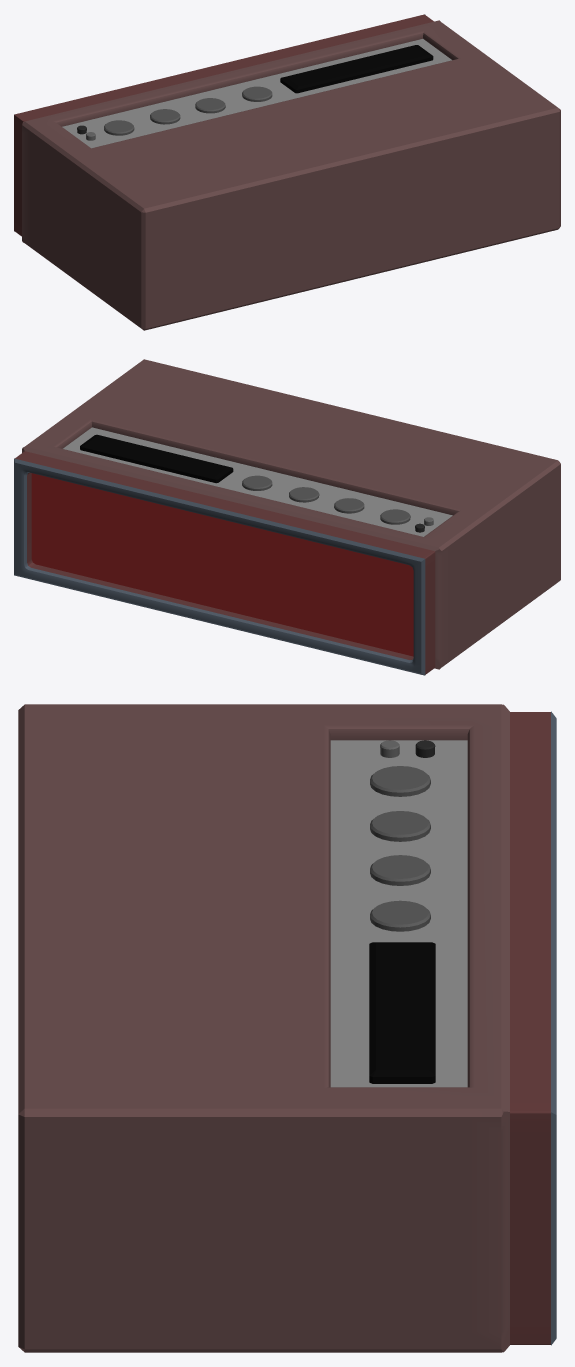
The model's file is AlarmClockFBX.fbx.
3 views of the same model, one above another, from view 1: azimuth 30°, elevation 25°; view 2: azimuth 150°, elevation 25°; view 3: azimuth 270°, elevation 25° (orthographic). The views are drawn at different scales.
Parts seen in each view (by area): view 1: PGT_Ass_ALC_V04:polySurface5, PGT_Ass_ALC_V04:polySurface6, PGT_Ass_ALC_V04:polySurface4, PGT_Ass_ALC_V04:Button_6, PGT_Ass_ALC_V04:Button6, PGT_Ass_ALC_V04:Button7, PGT_Ass_ALC_V04:Button, PGT_Ass_ALC_V04:Button8; view 2: PGT_Ass_ALC_V04:polySurface5, PGT_Ass_ALC_V04:FAce, PGT_Ass_ALC_V04:Metalbrim, PGT_Ass_ALC_V04:polySurface4, PGT_Ass_ALC_V04:polySurface6, PGT_Ass_ALC_V04:Button_6, PGT_Ass_ALC_V04:Button7, PGT_Ass_ALC_V04:Button8, PGT_Ass_ALC_V04:Button6, PGT_Ass_ALC_V04:Button; view 3: PGT_Ass_ALC_V04:polySurface5, PGT_Ass_ALC_V04:polySurface6, PGT_Ass_ALC_V04:polySurface4, PGT_Ass_ALC_V04:Button_6, PGT_Ass_ALC_V04:Metalbrim, PGT_Ass_ALC_V04:Button7, PGT_Ass_ALC_V04:Button, PGT_Ass_ALC_V04:Button6, PGT_Ass_ALC_V04:Button8.
Part boxes in pixels (box(x1,y1,x2,y2)): PGT_Ass_ALC_V04:polySurface5: box(22, 20, 560, 330); PGT_Ass_ALC_V04:polySurface6: box(62, 39, 451, 148); PGT_Ass_ALC_V04:polySurface4: box(14, 14, 433, 236); PGT_Ass_ALC_V04:Button_6: box(280, 45, 433, 93); PGT_Ass_ALC_V04:Button6: box(195, 98, 225, 113); PGT_Ass_ALC_V04:Button7: box(150, 109, 180, 124); PGT_Ass_ALC_V04:Button: box(242, 86, 272, 101); PGT_Ass_ALC_V04:Button8: box(104, 120, 134, 135); PGT_Ass_ALC_V04:polySurface5: box(22, 359, 560, 669); PGT_Ass_ALC_V04:FAce: box(31, 473, 413, 656); PGT_Ass_ALC_V04:Metalbrim: box(14, 458, 425, 675); PGT_Ass_ALC_V04:polySurface4: box(15, 451, 435, 674); PGT_Ass_ALC_V04:polySurface6: box(63, 427, 452, 536); PGT_Ass_ALC_V04:Button_6: box(80, 434, 233, 483); PGT_Ass_ALC_V04:Button7: box(334, 498, 364, 513); PGT_Ass_ALC_V04:Button8: box(380, 509, 410, 524); PGT_Ass_ALC_V04:Button6: box(289, 487, 319, 502); PGT_Ass_ALC_V04:Button: box(242, 475, 272, 490); PGT_Ass_ALC_V04:polySurface5: box(18, 704, 509, 1352); PGT_Ass_ALC_V04:polySurface6: box(330, 740, 467, 1087); PGT_Ass_ALC_V04:polySurface4: box(510, 712, 550, 1344); PGT_Ass_ALC_V04:Button_6: box(369, 942, 435, 1083); PGT_Ass_ALC_V04:Metalbrim: box(551, 711, 556, 1345); PGT_Ass_ALC_V04:Button7: box(370, 811, 430, 841); PGT_Ass_ALC_V04:Button: box(370, 900, 430, 931); PGT_Ass_ALC_V04:Button6: box(370, 855, 430, 885); PGT_Ass_ALC_V04:Button8: box(370, 766, 430, 796).
Size of the model in its own units: 19.28 by 5.36 by 10.71.
